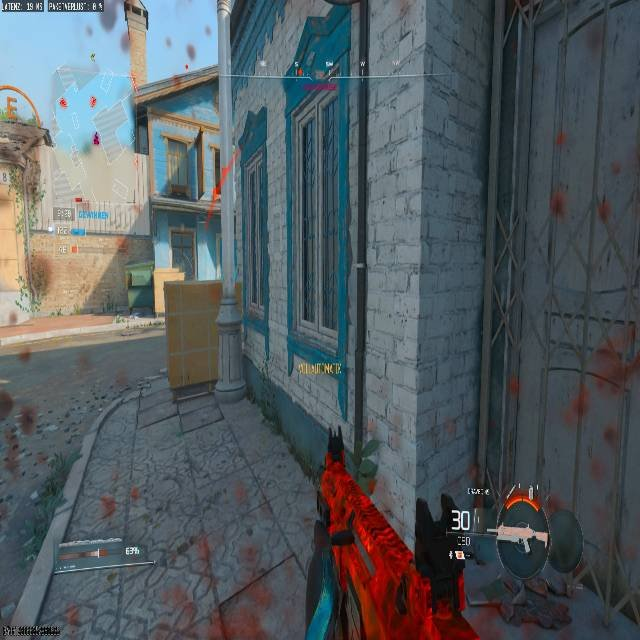player: (492, 494, 584, 638)
